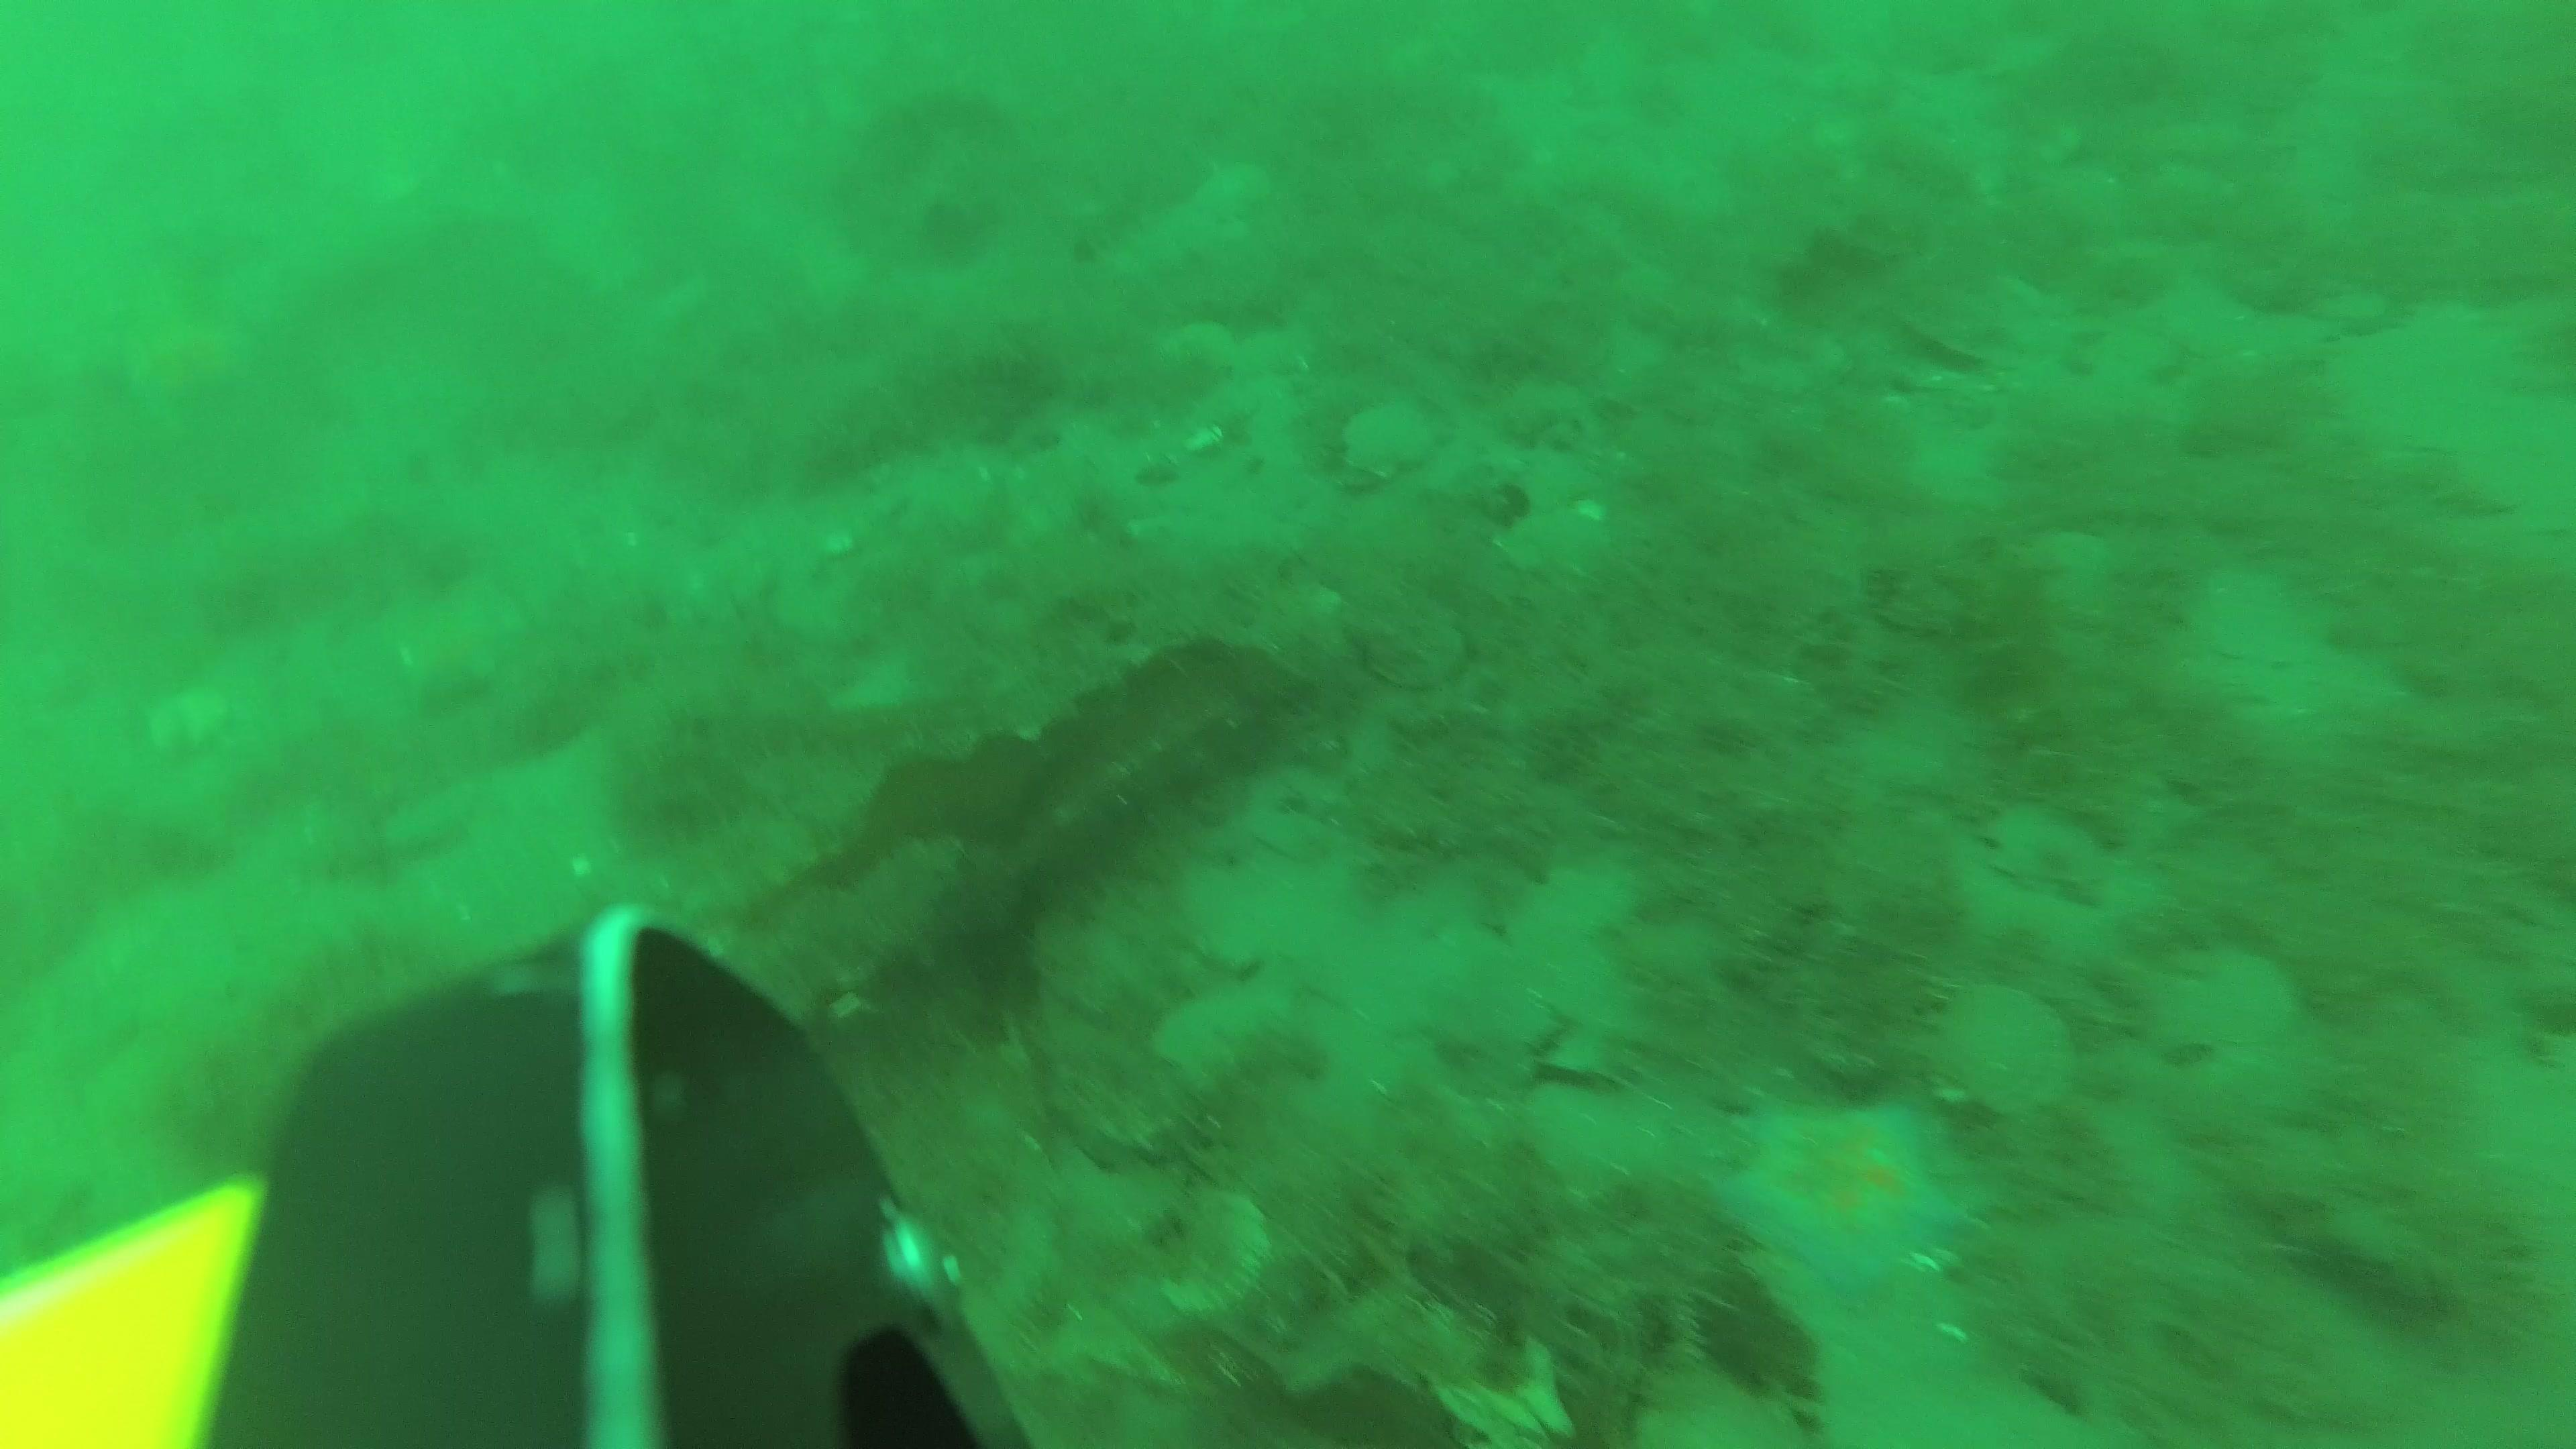scallop: (1920, 975, 2082, 1113), (2146, 932, 2296, 1074), (1155, 1180, 1279, 1322), (1976, 789, 2118, 901), (1154, 987, 1288, 1077), (1339, 391, 1444, 488), (2204, 566, 2298, 671), (1491, 506, 1614, 579)
starfish: (1718, 1086, 1990, 1322), (78, 283, 257, 425)
